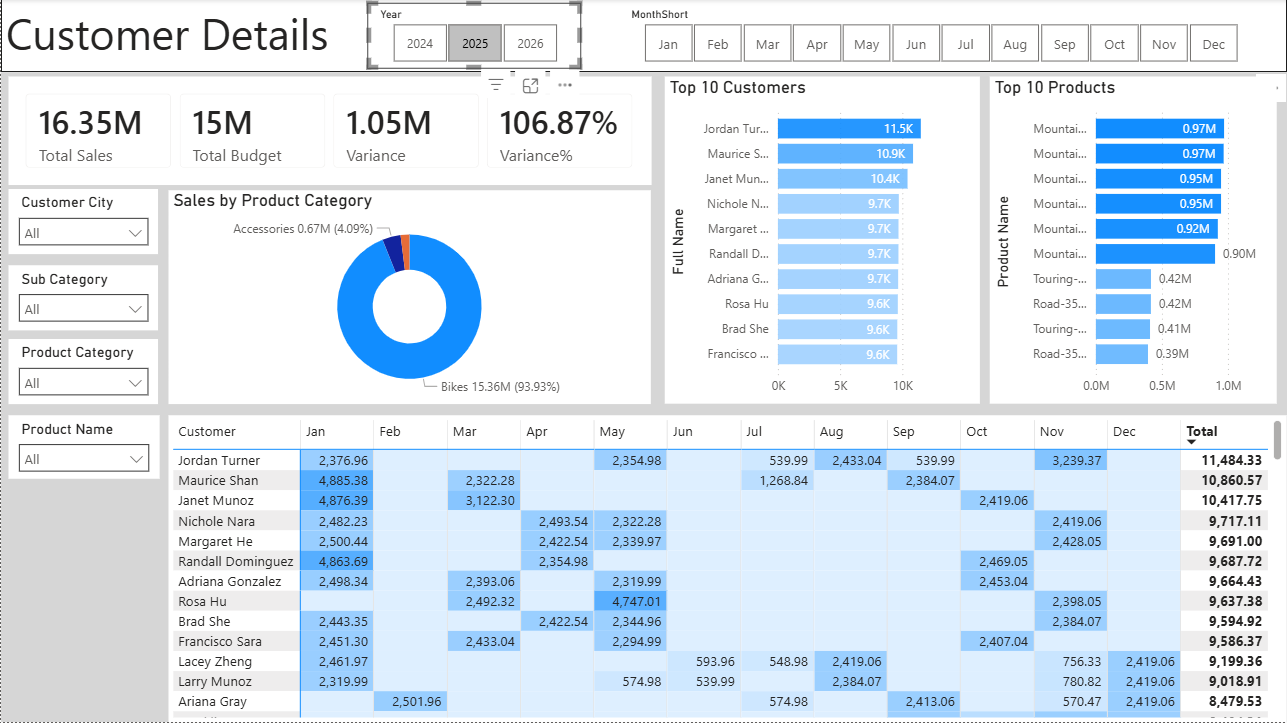

What the dashboard file says about the page in this screenshot:
{"tool":"powerbi","page":{"name":"Customer Details","canvas":[1280,720],"ordinal":1},"visuals":[{"type":"textbox","box":[0,0,1280,72.9],"z":0},{"type":"slicer","fields":{"Values":["DIM_Calender.Year"]},"box":[364.3,4.3,212.9,65.7],"z":1000},{"type":"slicer","fields":{"Values":["DIM_Calender.MonthShort"]},"box":[614.3,4.3,640,65.7],"z":2000},{"type":"cardVisual","fields":{"Data":["FACT_InternetSales.Total Sales","Budget.Total Budget","Budget.Variance","Budget.Variance%"]},"box":[7.3,77.3,640,108.2],"z":3000},{"type":"donutChart","title":"Sales by Product Category","fields":{"Category":["DIM_Product.Product Category"],"Y":["Sum(FACT_InternetSales.SalesAmount)"]},"box":[167.1,190,480,212.9],"z":4000},{"type":"clusteredBarChart","title":"Top 10 Customers","fields":{"Category":["DIM_Customers.Full Name"],"Y":["Sum(FACT_InternetSales.SalesAmount)"]},"box":[660.5,77.1,313.5,325.9],"z":5000},{"type":"clusteredBarChart","title":"Top 10 Products","fields":{"Category":["DIM_Product.Product Name"],"Y":["Sum(FACT_InternetSales.SalesAmount)"]},"box":[984.3,77.1,285.7,325.7],"z":6000},{"type":"slicer","fields":{"Values":["DIM_Customers.Customer City"]},"box":[7.8,188.9,148.9,64.4],"z":9000},{"type":"slicer","fields":{"Values":["DIM_Product.Sub Category"]},"box":[7.8,264.4,148.9,64.4],"z":10000},{"type":"slicer","fields":{"Values":["DIM_Product.Product Category"]},"box":[7.8,338.9,148.9,64.4],"z":11000},{"type":"slicer","fields":{"Values":["DIM_Product.Product Name"]},"box":[7.1,414.3,150,62.9],"z":12000},{"type":"pivotTable","fields":{"Rows":["DIM_Customers.Full Name"],"Columns":["DIM_Calender.MonthShort"],"Values":["Sum(FACT_InternetSales.SalesAmount)"]},"box":[167.1,414.3,1112.9,305.7],"z":12001}]}

Visuals, with their boxes in screenshot pixels (x1, y1, x2, y2), scaled from the page's 1280x720 canvas onto the 1287x723 screenshot:
textbox: (x1=0, y1=0, x2=1286, y2=73)
slicer - DIM_Calender.Year: (x1=366, y1=4, x2=580, y2=70)
slicer - DIM_Calender.MonthShort: (x1=618, y1=4, x2=1261, y2=70)
cardVisual - FACT_InternetSales.Total Sales x Budget.Total Budget: (x1=7, y1=78, x2=651, y2=186)
"Sales by Product Category" donutChart: (x1=168, y1=191, x2=651, y2=405)
"Top 10 Customers" clusteredBarChart: (x1=664, y1=77, x2=979, y2=405)
"Top 10 Products" clusteredBarChart: (x1=990, y1=77, x2=1277, y2=404)
slicer - DIM_Customers.Customer City: (x1=8, y1=190, x2=158, y2=254)
slicer - DIM_Product.Sub Category: (x1=8, y1=266, x2=158, y2=330)
slicer - DIM_Product.Product Category: (x1=8, y1=340, x2=158, y2=405)
slicer - DIM_Product.Product Name: (x1=7, y1=416, x2=158, y2=479)
pivotTable - DIM_Customers.Full Name x DIM_Calender.MonthShort: (x1=168, y1=416, x2=1286, y2=722)
